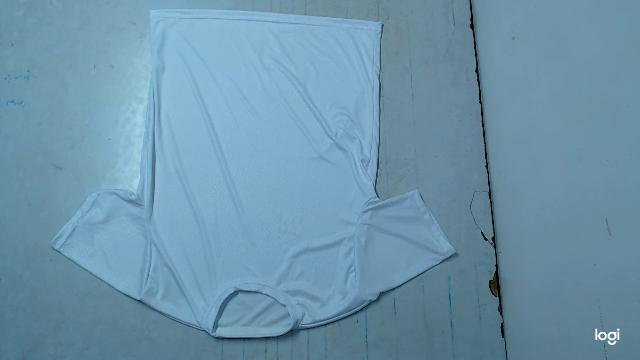new-garment: (51, 10, 455, 337)
